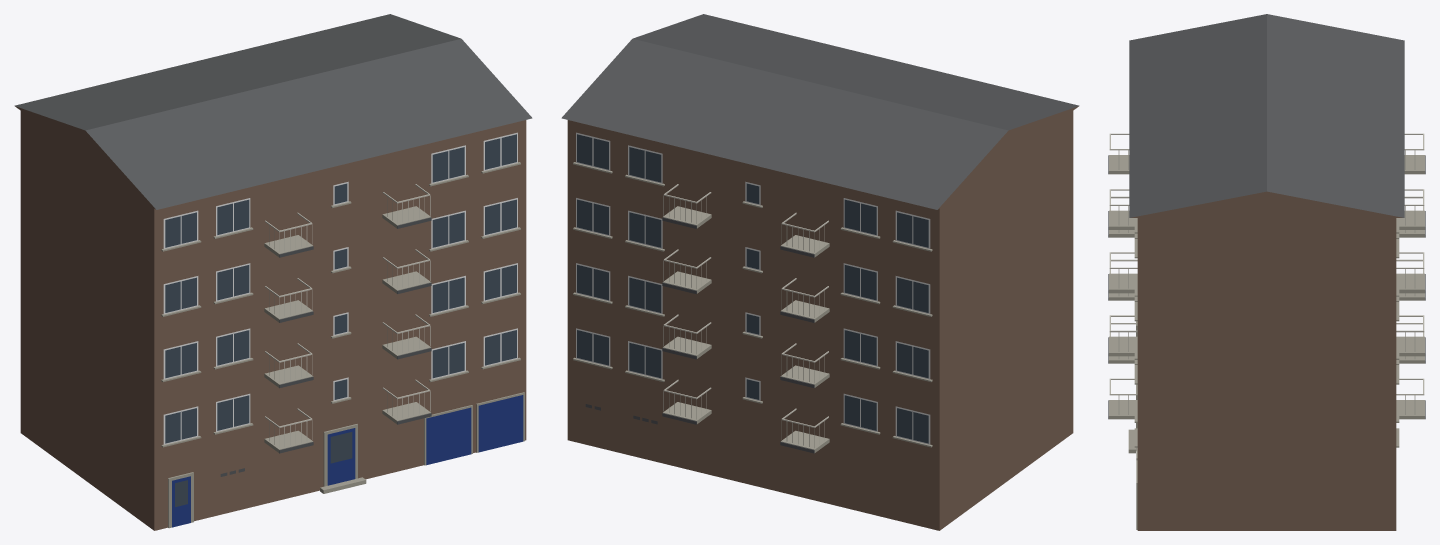
Rendered from nw-canopy-core-garage-brick__brick-canopy__5__gable__long__solid.glb.
3 views of the same model, side by side, from view 1: azimuth 30°, elevation 25°; view 2: azimuth 150°, elevation 25°; view 3: azimuth 270°, elevation 25° (orthographic). The views are drawn at different scales.
Parts seen in each view (by area): view 1: nw-canopy-core-garage-brick__brick-canopy__5__gable__long__s; view 2: nw-canopy-core-garage-brick__brick-canopy__5__gable__long__s; view 3: nw-canopy-core-garage-brick__brick-canopy__5__gable__long__s.
Boxes of the visible parts, x1,y1,x2,y2 form: nw-canopy-core-garage-brick__brick-canopy__5__gable__long__s: (14, 14, 532, 530); nw-canopy-core-garage-brick__brick-canopy__5__gable__long__s: (561, 14, 1079, 530); nw-canopy-core-garage-brick__brick-canopy__5__gable__long__s: (1108, 14, 1425, 530).
Size of the model in its own units: 17.66 by 15.79 by 13.35.
